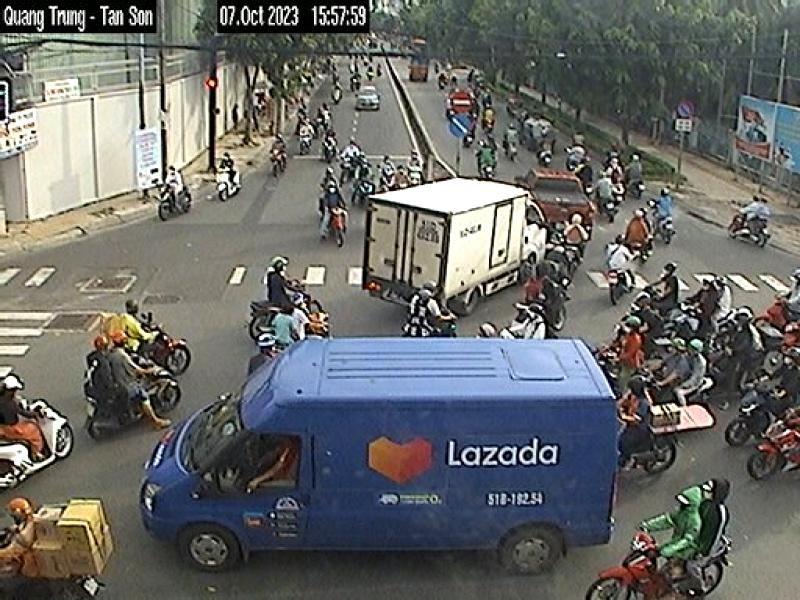car: (138, 337, 625, 574), (520, 168, 598, 238)
motorcycle: (586, 522, 732, 600), (0, 398, 76, 489)
truck: (364, 178, 549, 313)
